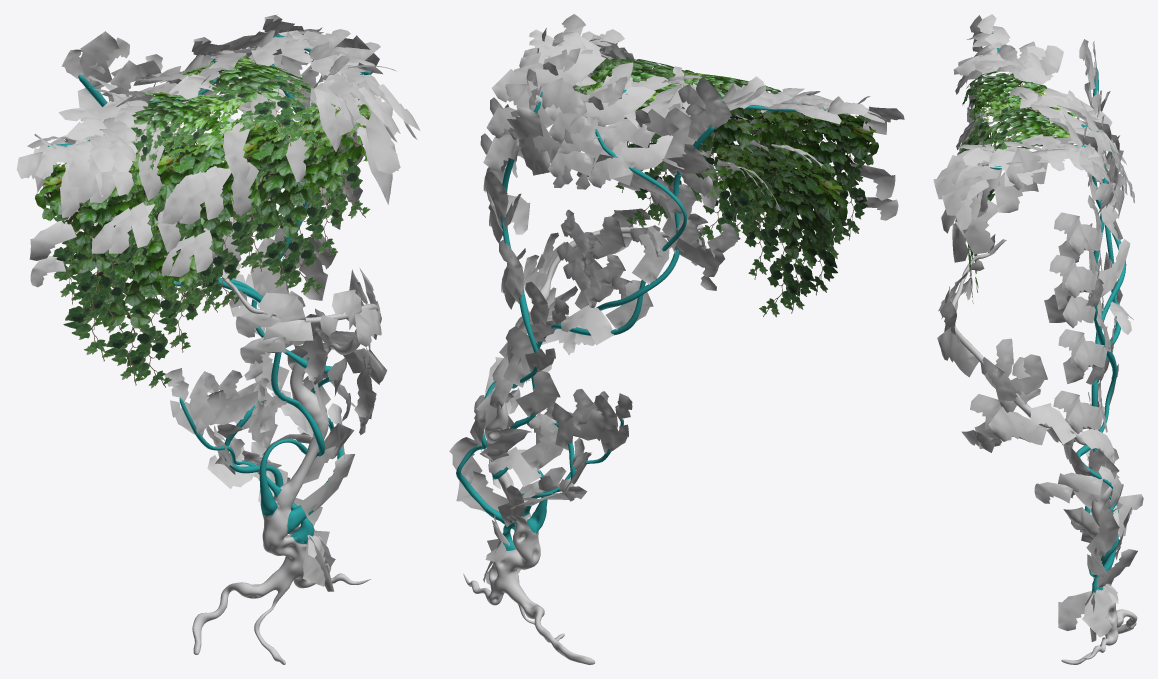
Rendered from tree2.FBX.
3 views of the same model, side by side, from view 1: azimuth 30°, elevation 25°; view 2: azimuth 150°, elevation 25°; view 3: azimuth 270°, elevation 25° (orthographic). The views are drawn at different scales.
Visible parts, largest first — view 1: tree2; view 2: tree2; view 3: tree2.
Part boxes in pixels (<box>): tree2: <box>16,14,420,664</box>; tree2: <box>449,14,904,664</box>; tree2: <box>933,14,1143,664</box>.
Bounding box in the file's own units: 161 × 245 × 83.77.
